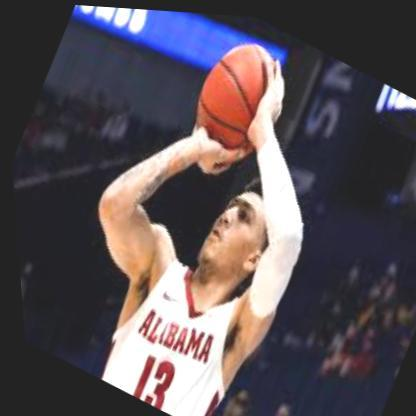basketball: (177, 23, 298, 165)
